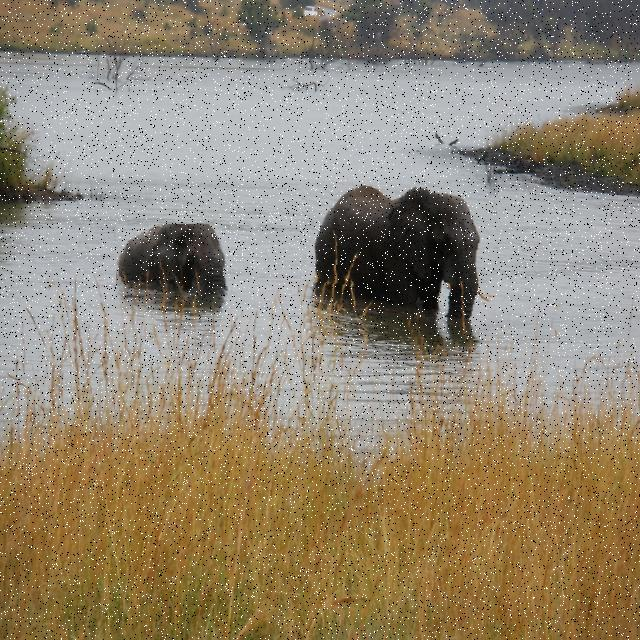elephant: (302, 183, 496, 338), (115, 224, 228, 304)
